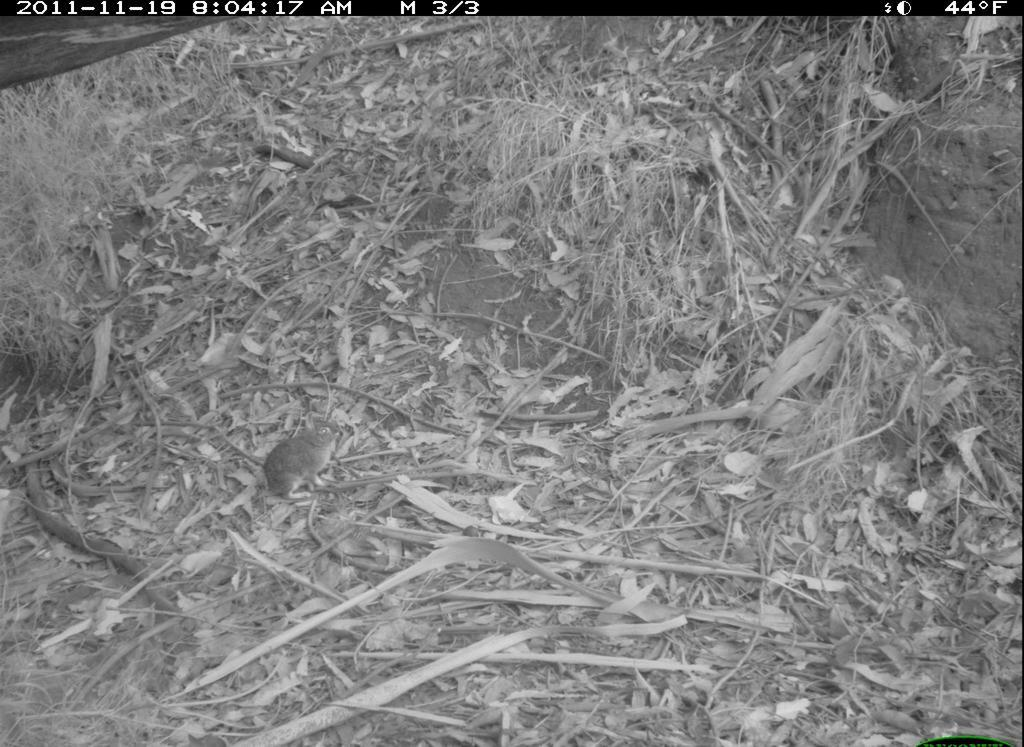rabbit: (254, 408, 347, 507)
